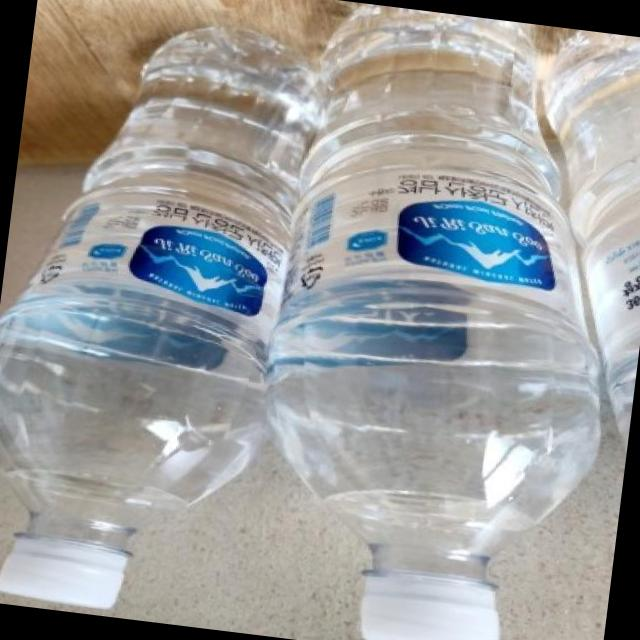plastic_bottle: (234, 0, 640, 640), (0, 2, 331, 626), (495, 25, 640, 460)
